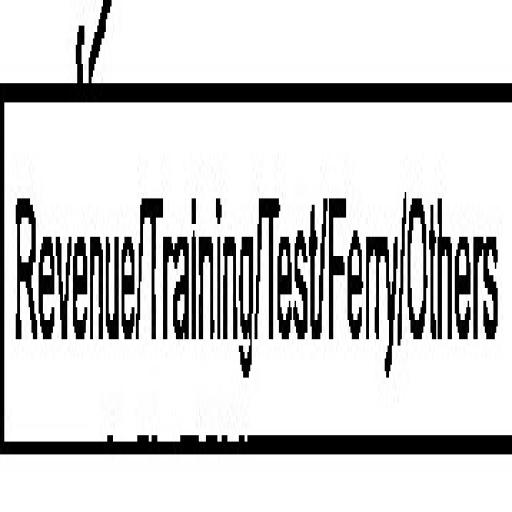check: (0, 0, 141, 481)
